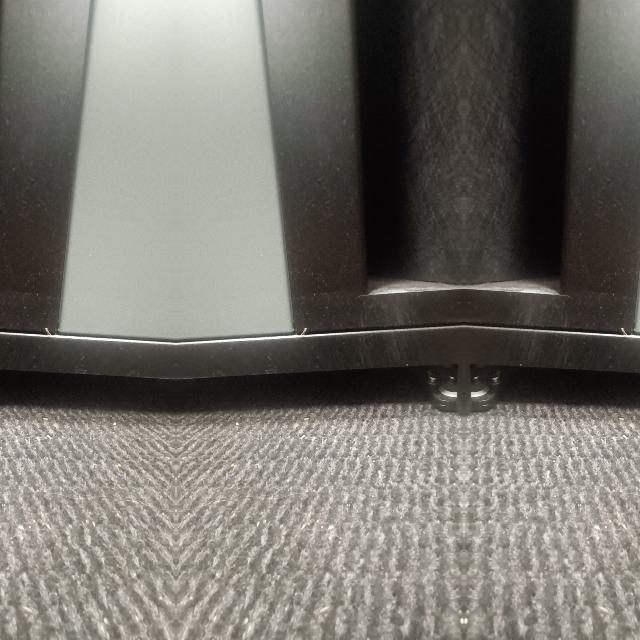obstacle: (174, 46, 463, 412), (463, 46, 640, 412), (0, 46, 175, 412)
